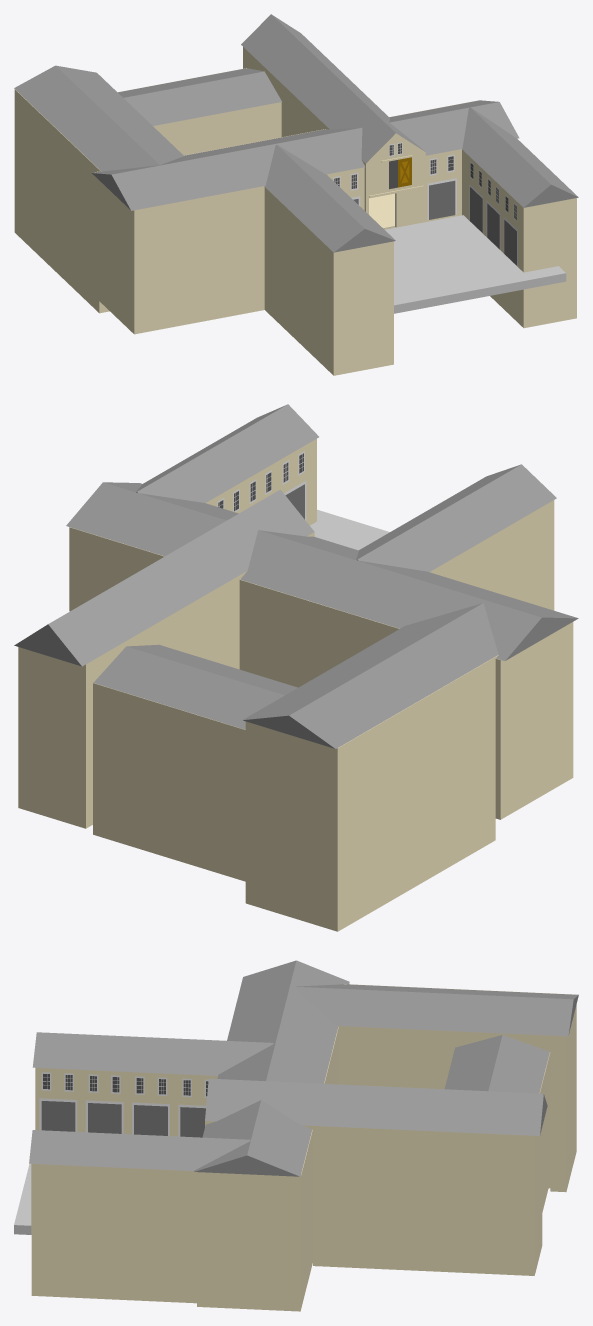
The model's file is Barn_Positioned.gltf.
The picture shows the model from 3 angles, top to bottom: view 1: azimuth 30°, elevation 25°; view 2: azimuth 150°, elevation 25°; view 3: azimuth 270°, elevation 25°; orthographic projection. The views are drawn at different scales.
Parts seen in each view (by area): view 1: Mesh3 barn1 BM1 Model, Mesh1 Group1 BM1 Model; view 2: Mesh3 barn1 BM1 Model, Mesh1 Group1 BM1 Model; view 3: Mesh3 barn1 BM1 Model, Mesh1 Group1 BM1 Model.
Boxes of the visible parts, x1,y1,x2,y2 form: Mesh3 barn1 BM1 Model: (14, 14, 578, 375); Mesh1 Group1 BM1 Model: (385, 215, 566, 313); Mesh3 barn1 BM1 Model: (14, 404, 578, 931); Mesh1 Group1 BM1 Model: (310, 509, 389, 550); Mesh3 barn1 BM1 Model: (29, 960, 578, 1311); Mesh1 Group1 BM1 Model: (14, 1163, 31, 1234).
Size of the model in its own units: 2663 by 1158 by 3182.
